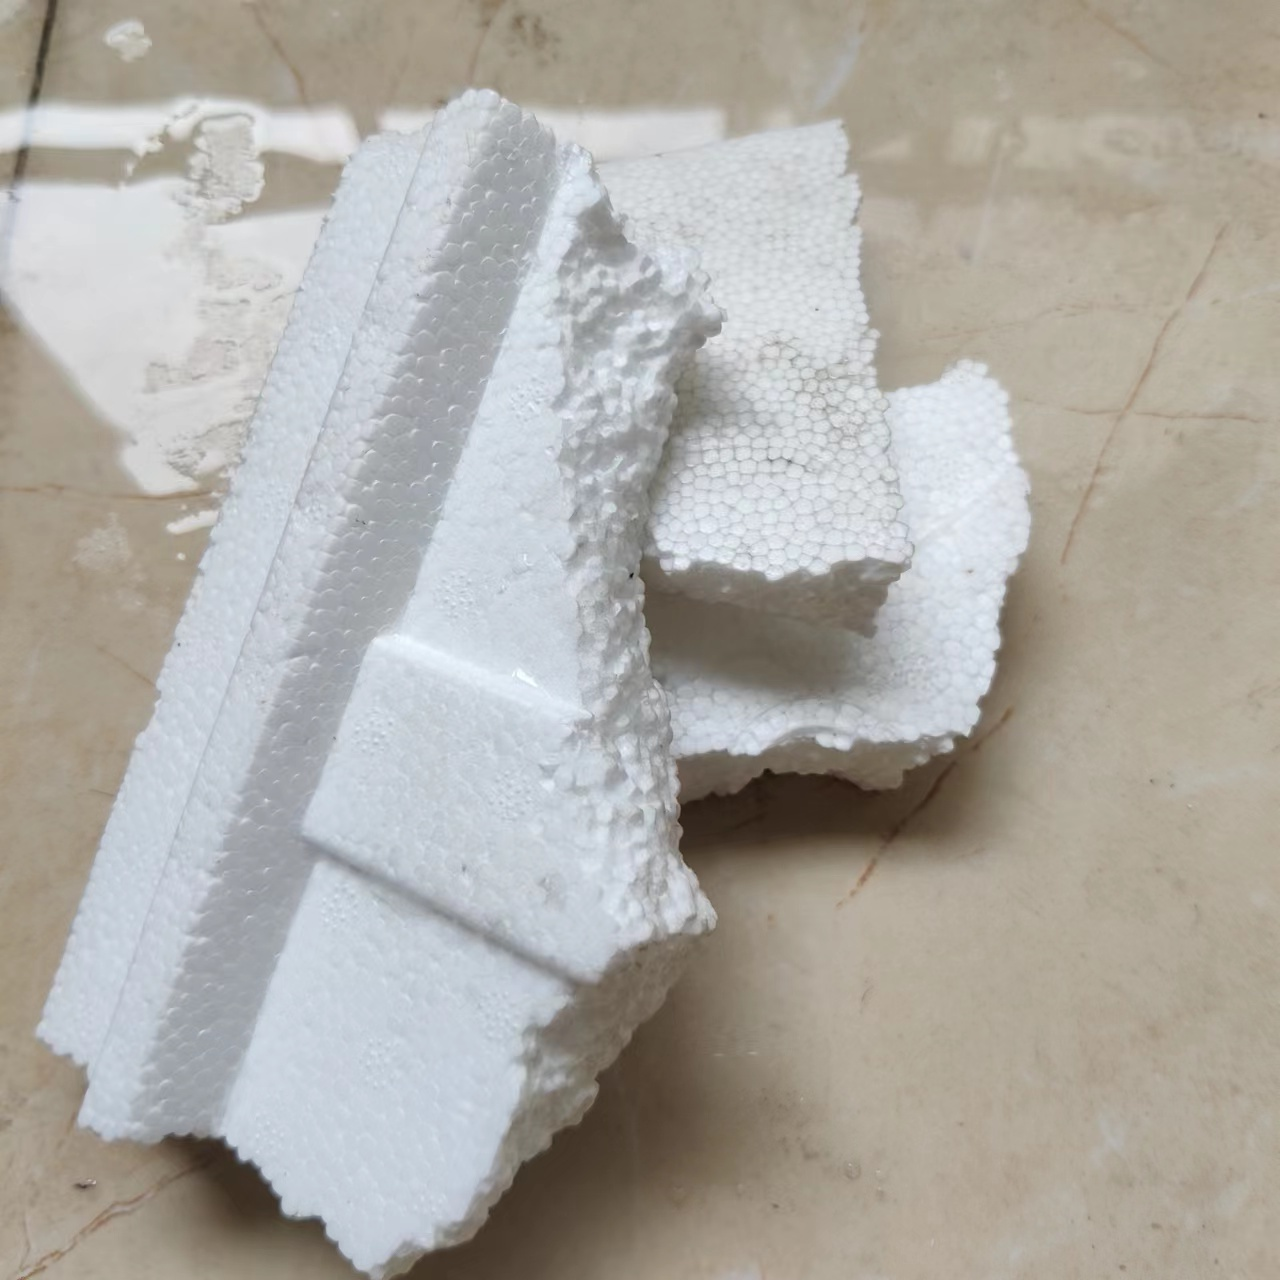5/可回收垃圾/泡沫: (34, 86, 729, 1276), (588, 115, 918, 644), (647, 358, 1034, 804)
